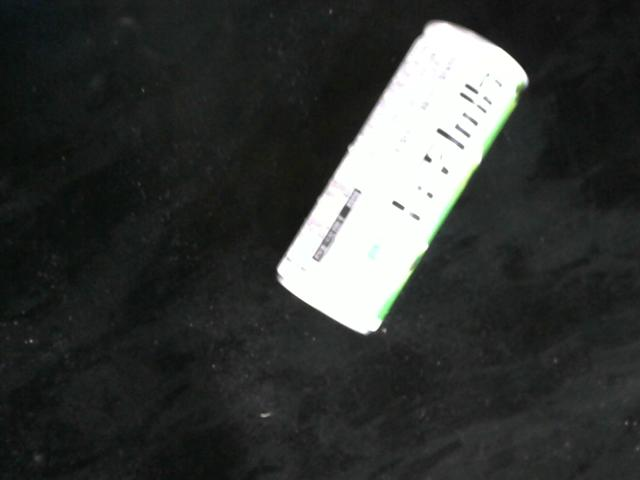can: (273, 19, 531, 339)
